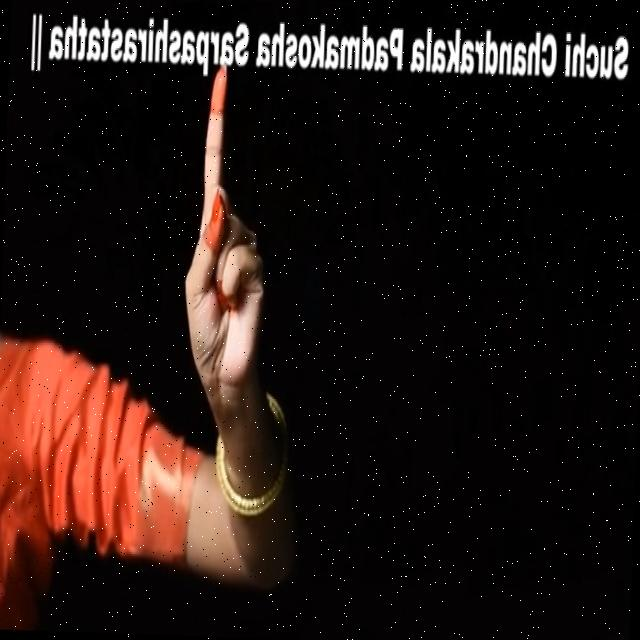Suchi: (170, 69, 288, 410)
bangle: (201, 422, 302, 534)
text: (26, 0, 635, 103)
